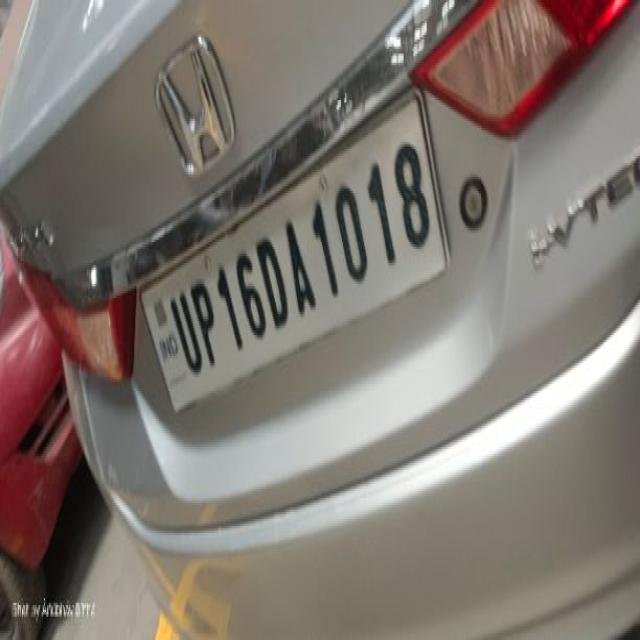license_plate: (57, 0, 638, 635), (138, 82, 452, 414)
